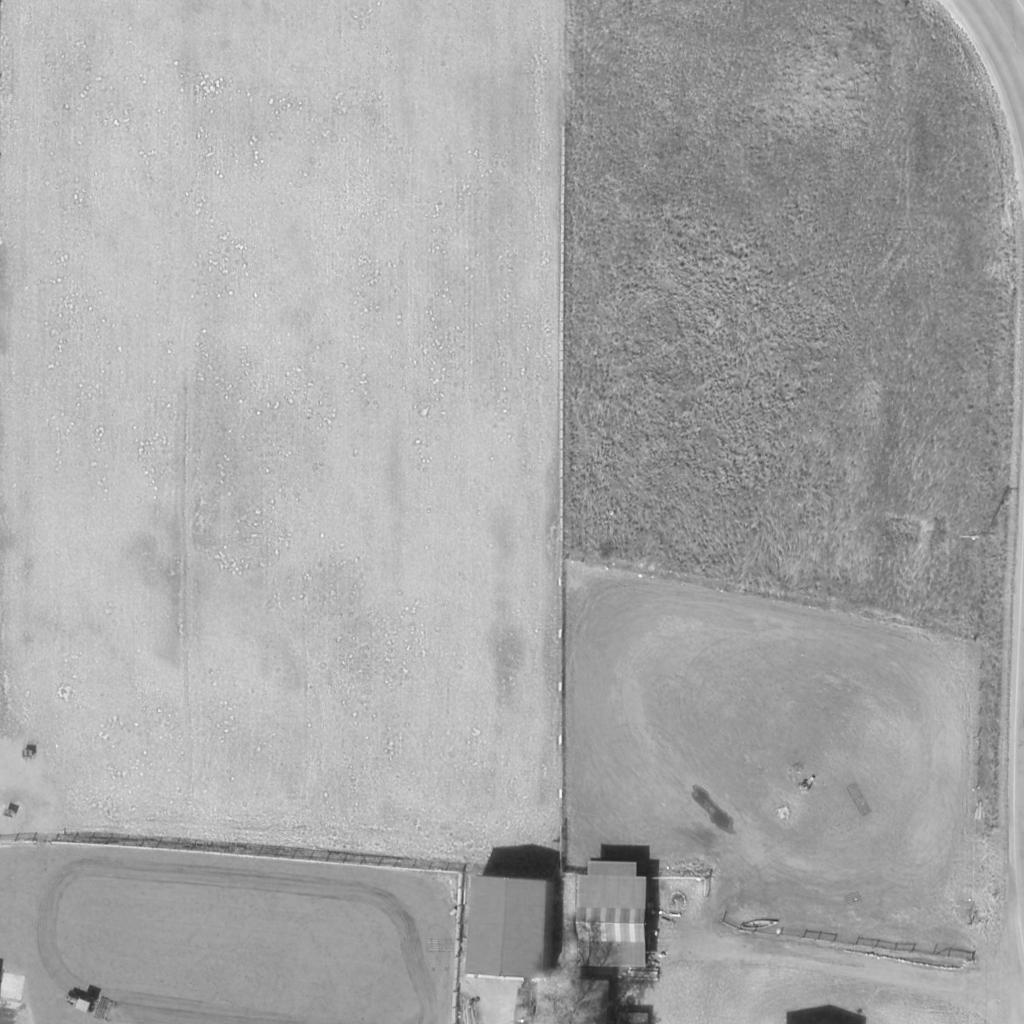vehicle: (57, 985, 99, 1021)
